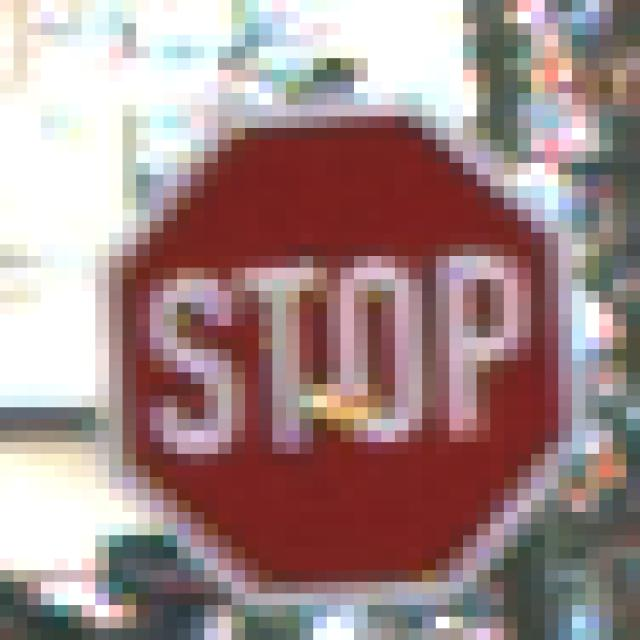STOP: (69, 71, 573, 583)
